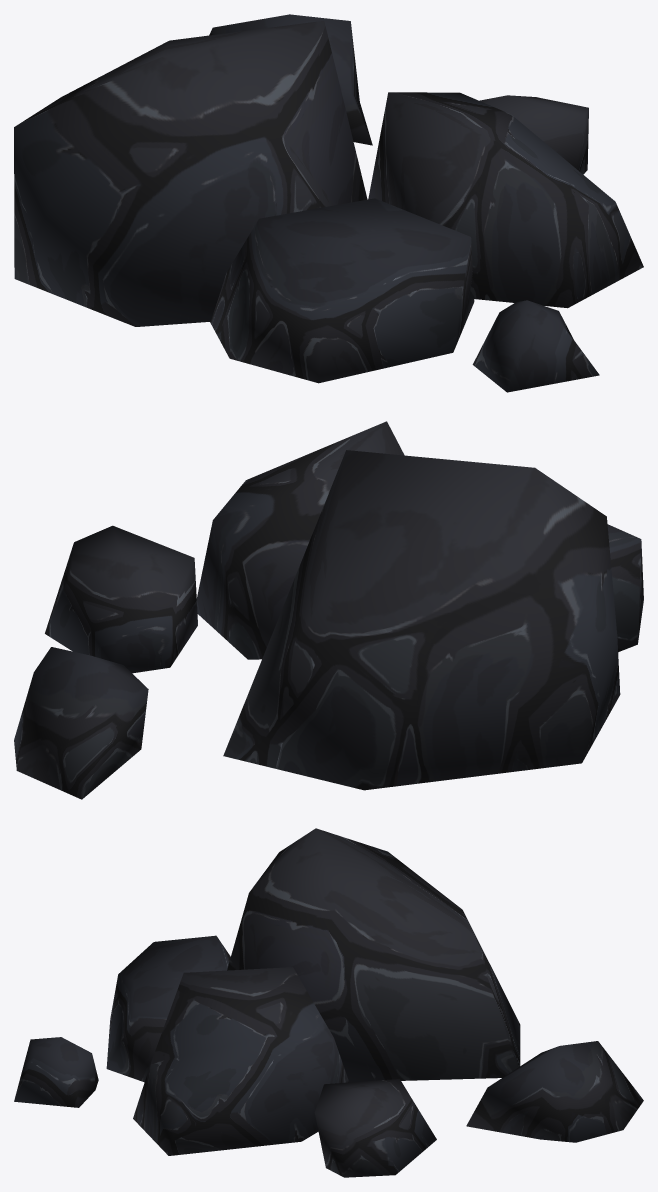
The model's file is SM_PROP_debris_stones_dungeon_02.fbx.
3 views of the same model, one above another, from view 1: azimuth 30°, elevation 25°; view 2: azimuth 150°, elevation 25°; view 3: azimuth 270°, elevation 25° (orthographic). The views are drawn at different scales.
Parts seen in each view (by area): view 1: SM_PROP_debris_stones_dungeon_02; view 2: SM_PROP_debris_stones_dungeon_02; view 3: SM_PROP_debris_stones_dungeon_02.
Part boxes in pixels (x1,y1,x2,y2): SM_PROP_debris_stones_dungeon_02: [14, 14, 643, 392]; SM_PROP_debris_stones_dungeon_02: [14, 421, 643, 799]; SM_PROP_debris_stones_dungeon_02: [14, 828, 643, 1177].
Size of the model in its own units: 128 by 52.69 by 166.
